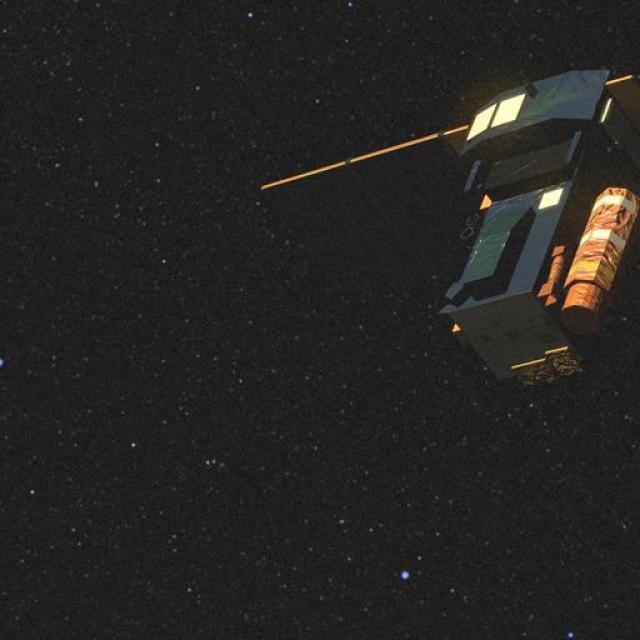soho: (399, 72, 640, 397)
